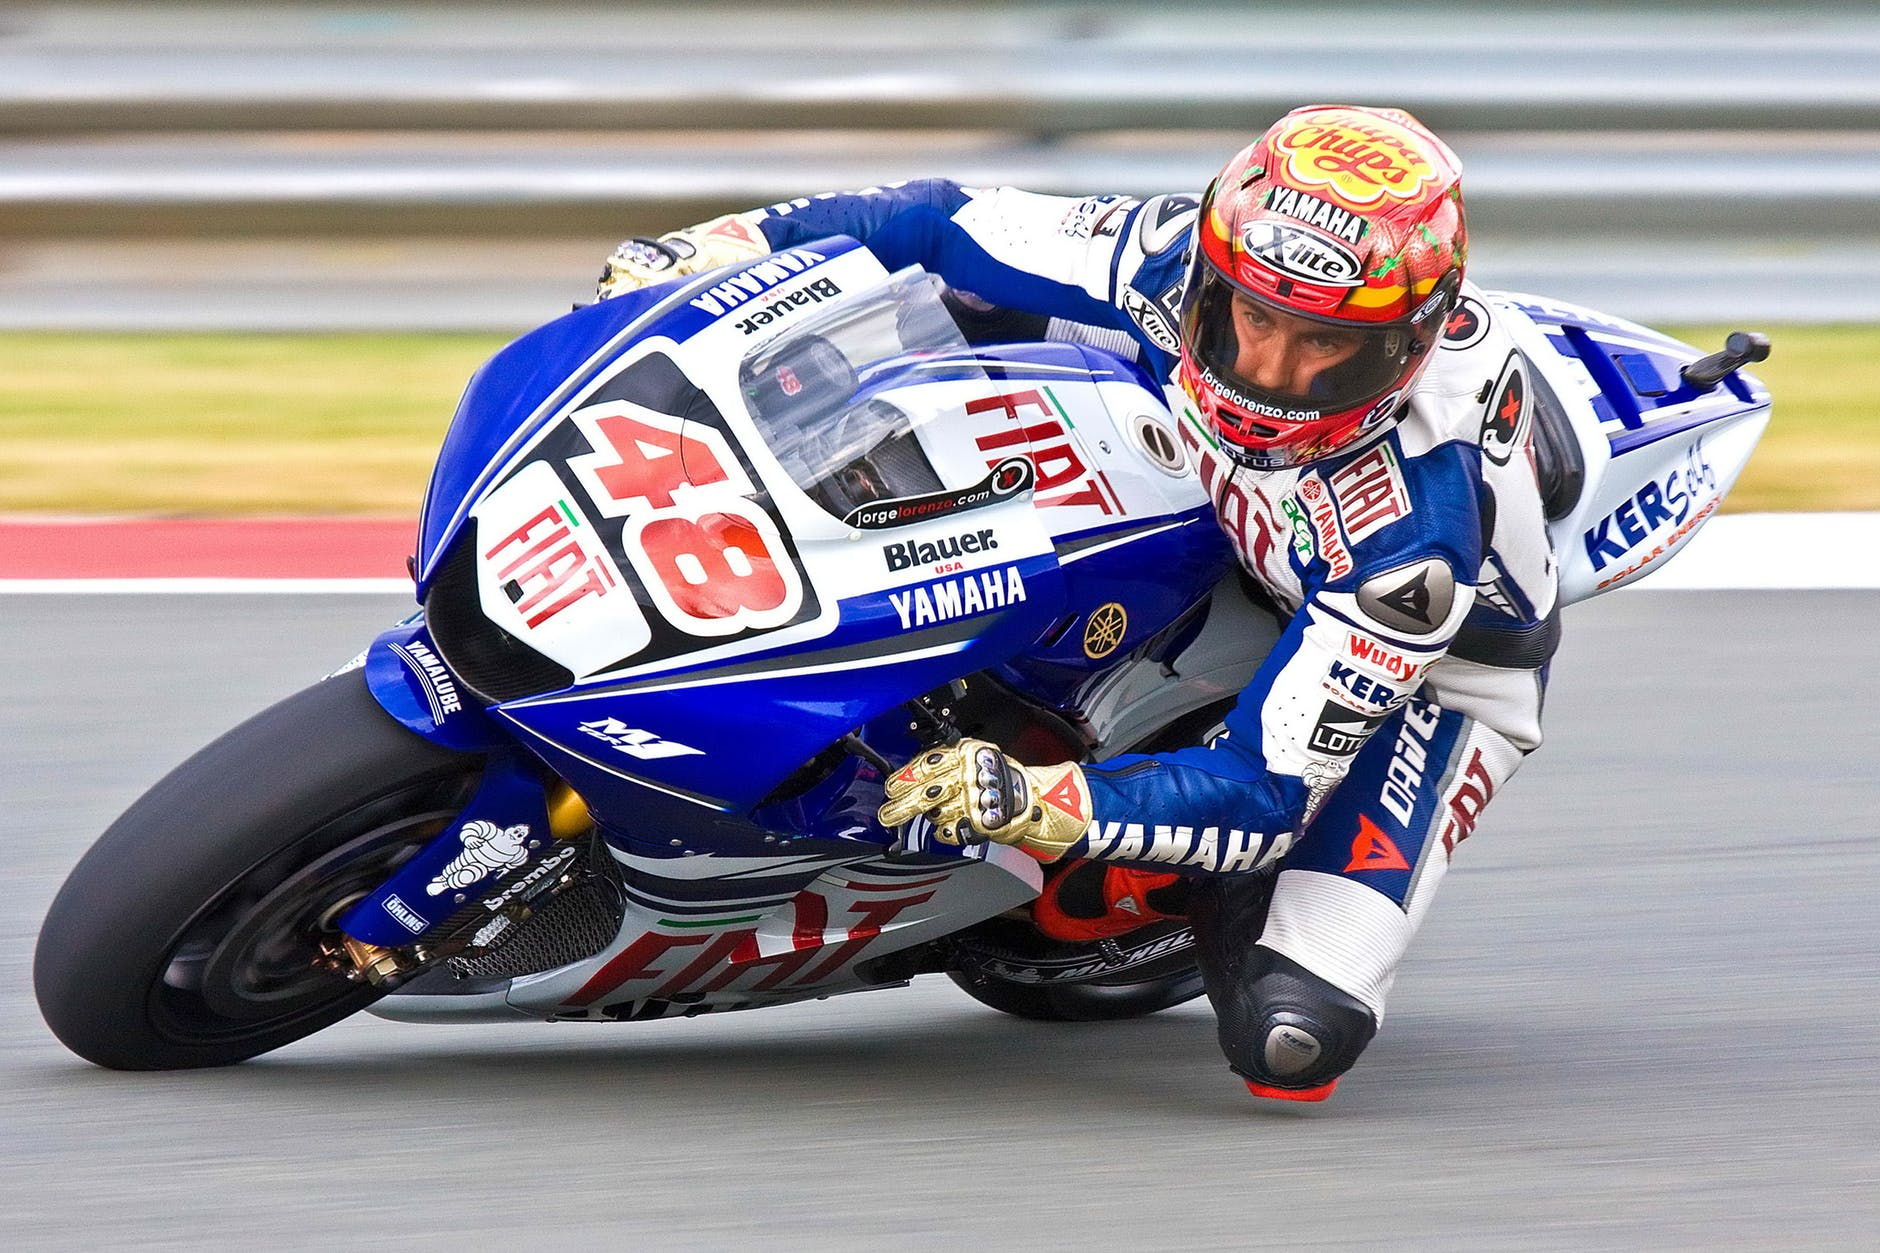helmet: (1198, 110, 1429, 457)
